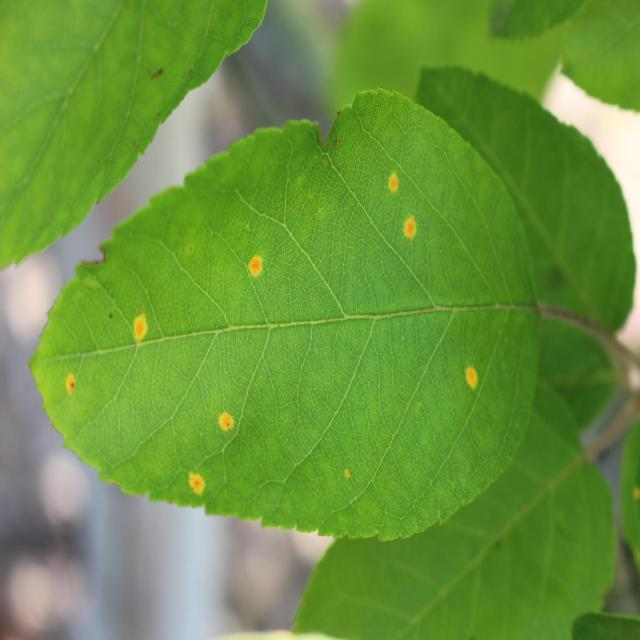Rust: (208, 403, 248, 458), (454, 352, 490, 413), (183, 464, 219, 511), (127, 296, 155, 353), (400, 205, 423, 266), (240, 238, 268, 282), (332, 458, 367, 491), (53, 369, 84, 397), (382, 162, 402, 205)
